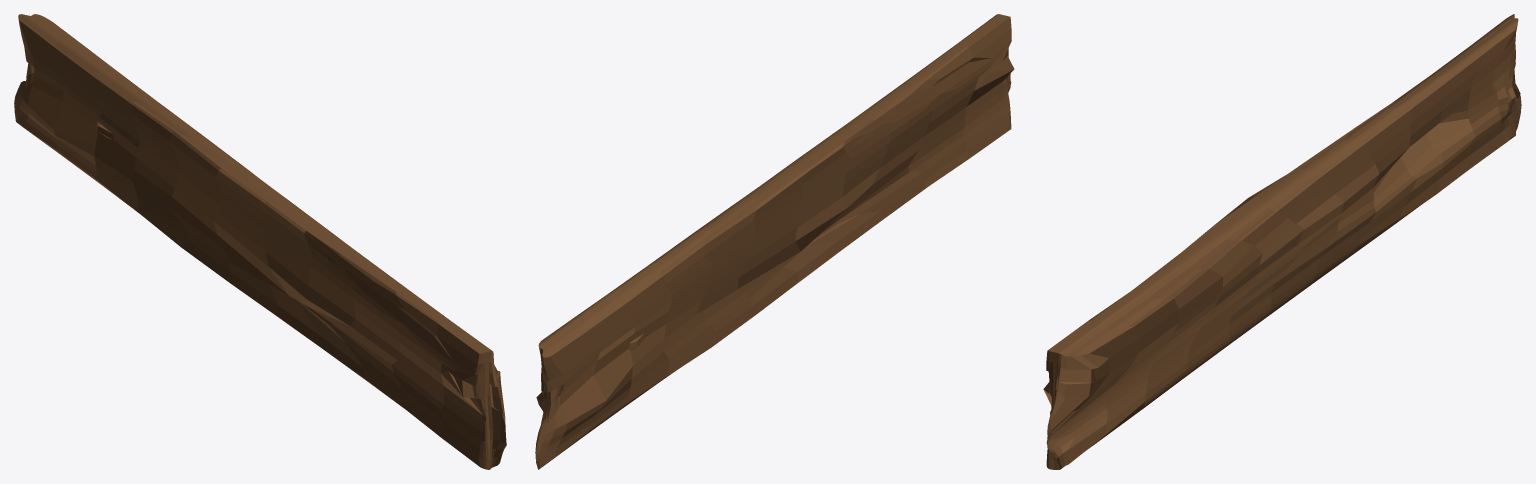
Rendered from wood.fbx.
3 views of the same model, side by side, from view 1: azimuth 30°, elevation 25°; view 2: azimuth 150°, elevation 25°; view 3: azimuth 330°, elevation 25° (orthographic).
Parts seen in each view (by area): view 1: Cube; view 2: Cube; view 3: Cube.
Boxes of the visible parts, box(x1,y1,x2,y2) form: Cube: box(14, 14, 506, 469); Cube: box(535, 14, 1014, 469); Cube: box(1043, 14, 1521, 469).
Bounding box in the file's own units: 15.39 × 40.95 × 305.
